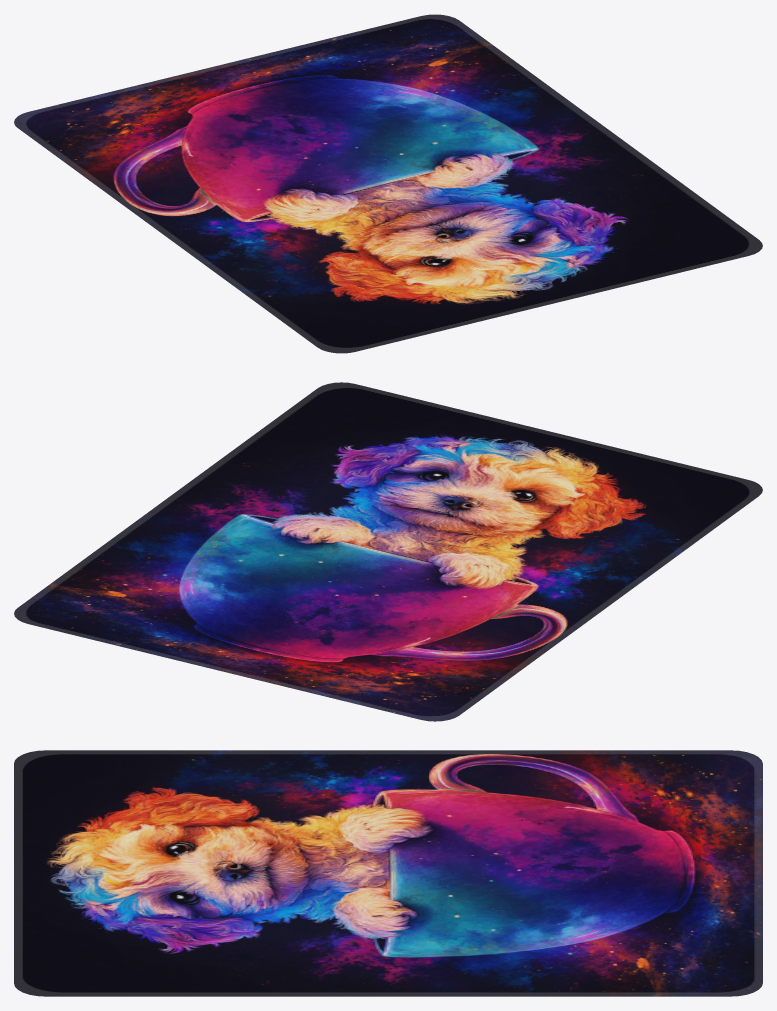
The model's file is Full Image 7x5 Grid.fbx.
3 renders of one model, top to bottom at view 1: azimuth 30°, elevation 25°; view 2: azimuth 150°, elevation 25°; view 3: azimuth 270°, elevation 25°, orthographic. The views are drawn at different scales.
Visible parts, largest first — view 1: Grid_7x5_Full_Image; view 2: Grid_7x5_Full_Image; view 3: Grid_7x5_Full_Image.
Boxes of the visible parts, x1=… form: Grid_7x5_Full_Image: x1=14, y1=14, x2=762, y2=353; Grid_7x5_Full_Image: x1=14, y1=382, x2=762, y2=721; Grid_7x5_Full_Image: x1=14, y1=750, x2=762, y2=996.
Size of the model in its own units: 18.61 by 0 by 23.92.
Materials: 1 (1 with a texture image).
